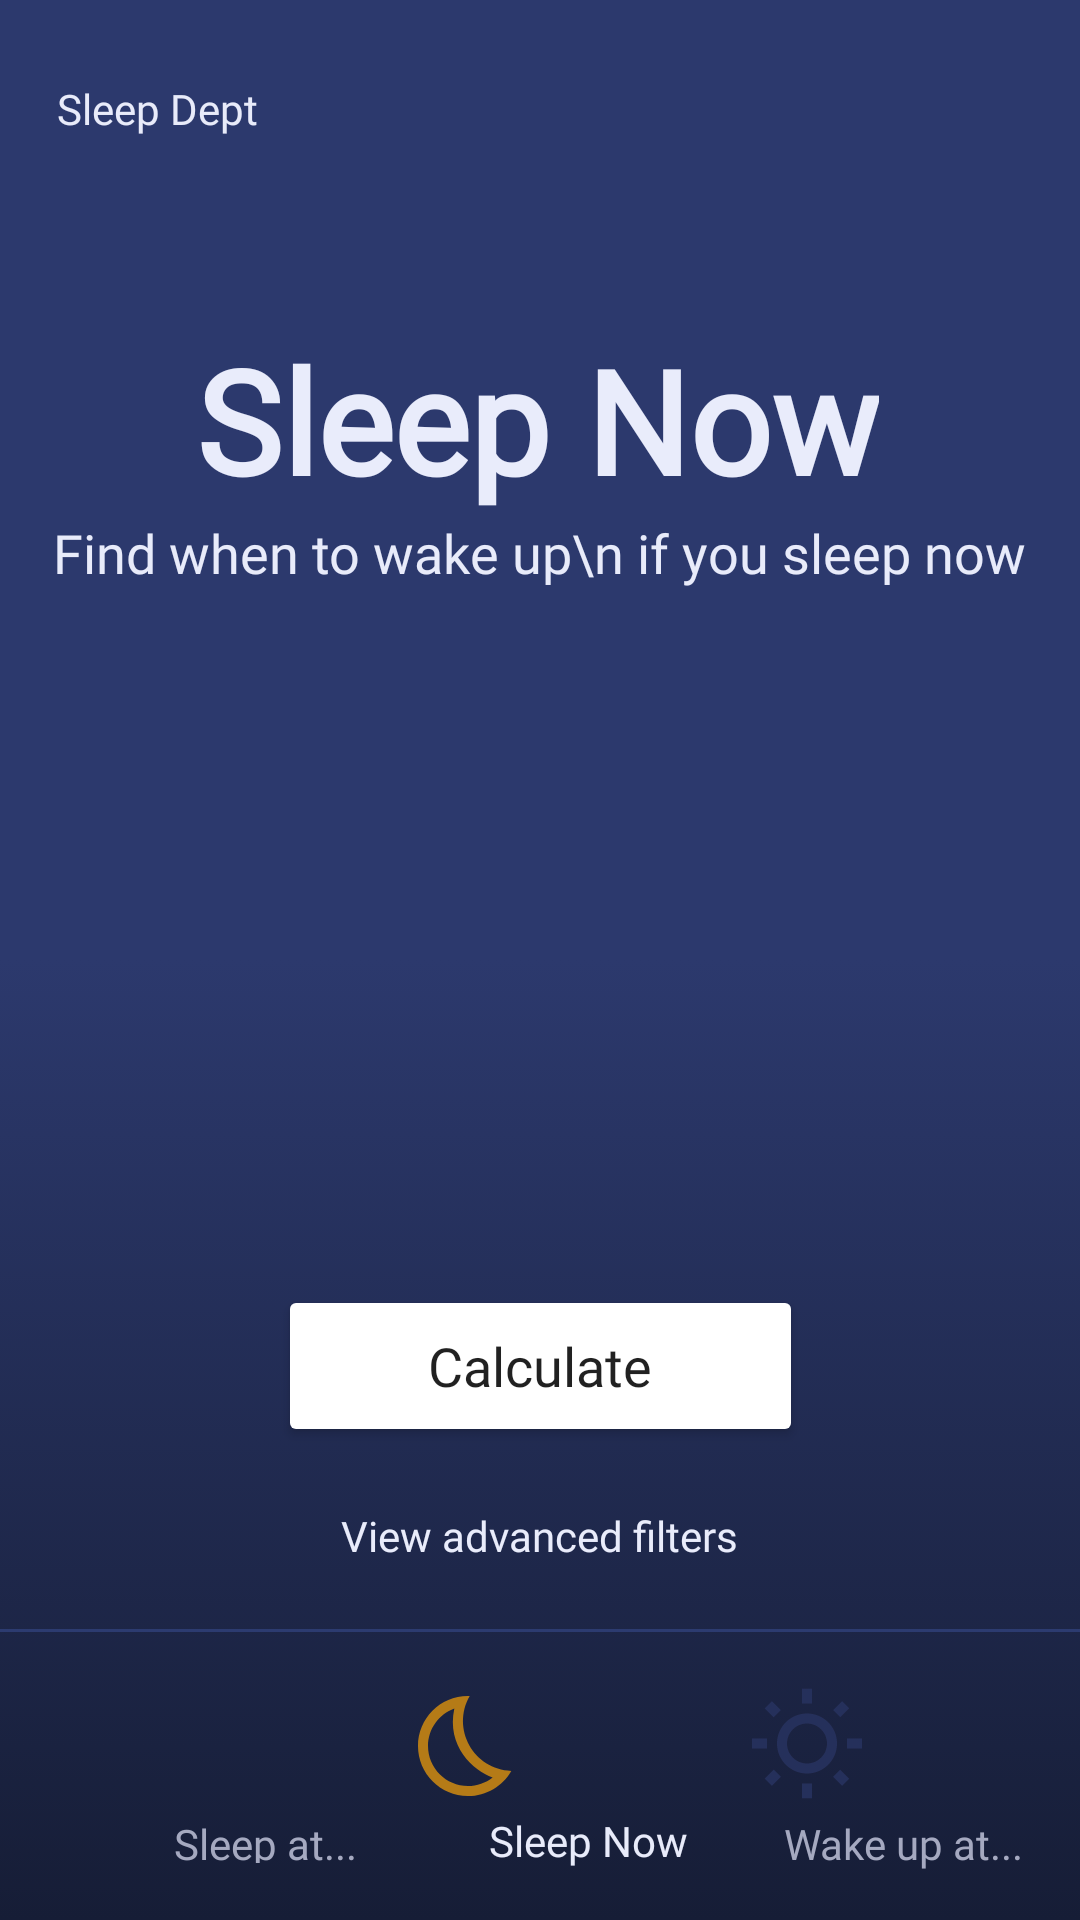

Where to tap for icons on this 1080 x 1920 app screen, as (x,y):
bedtime on: (464,1746)
sunny off: (807,1743)
